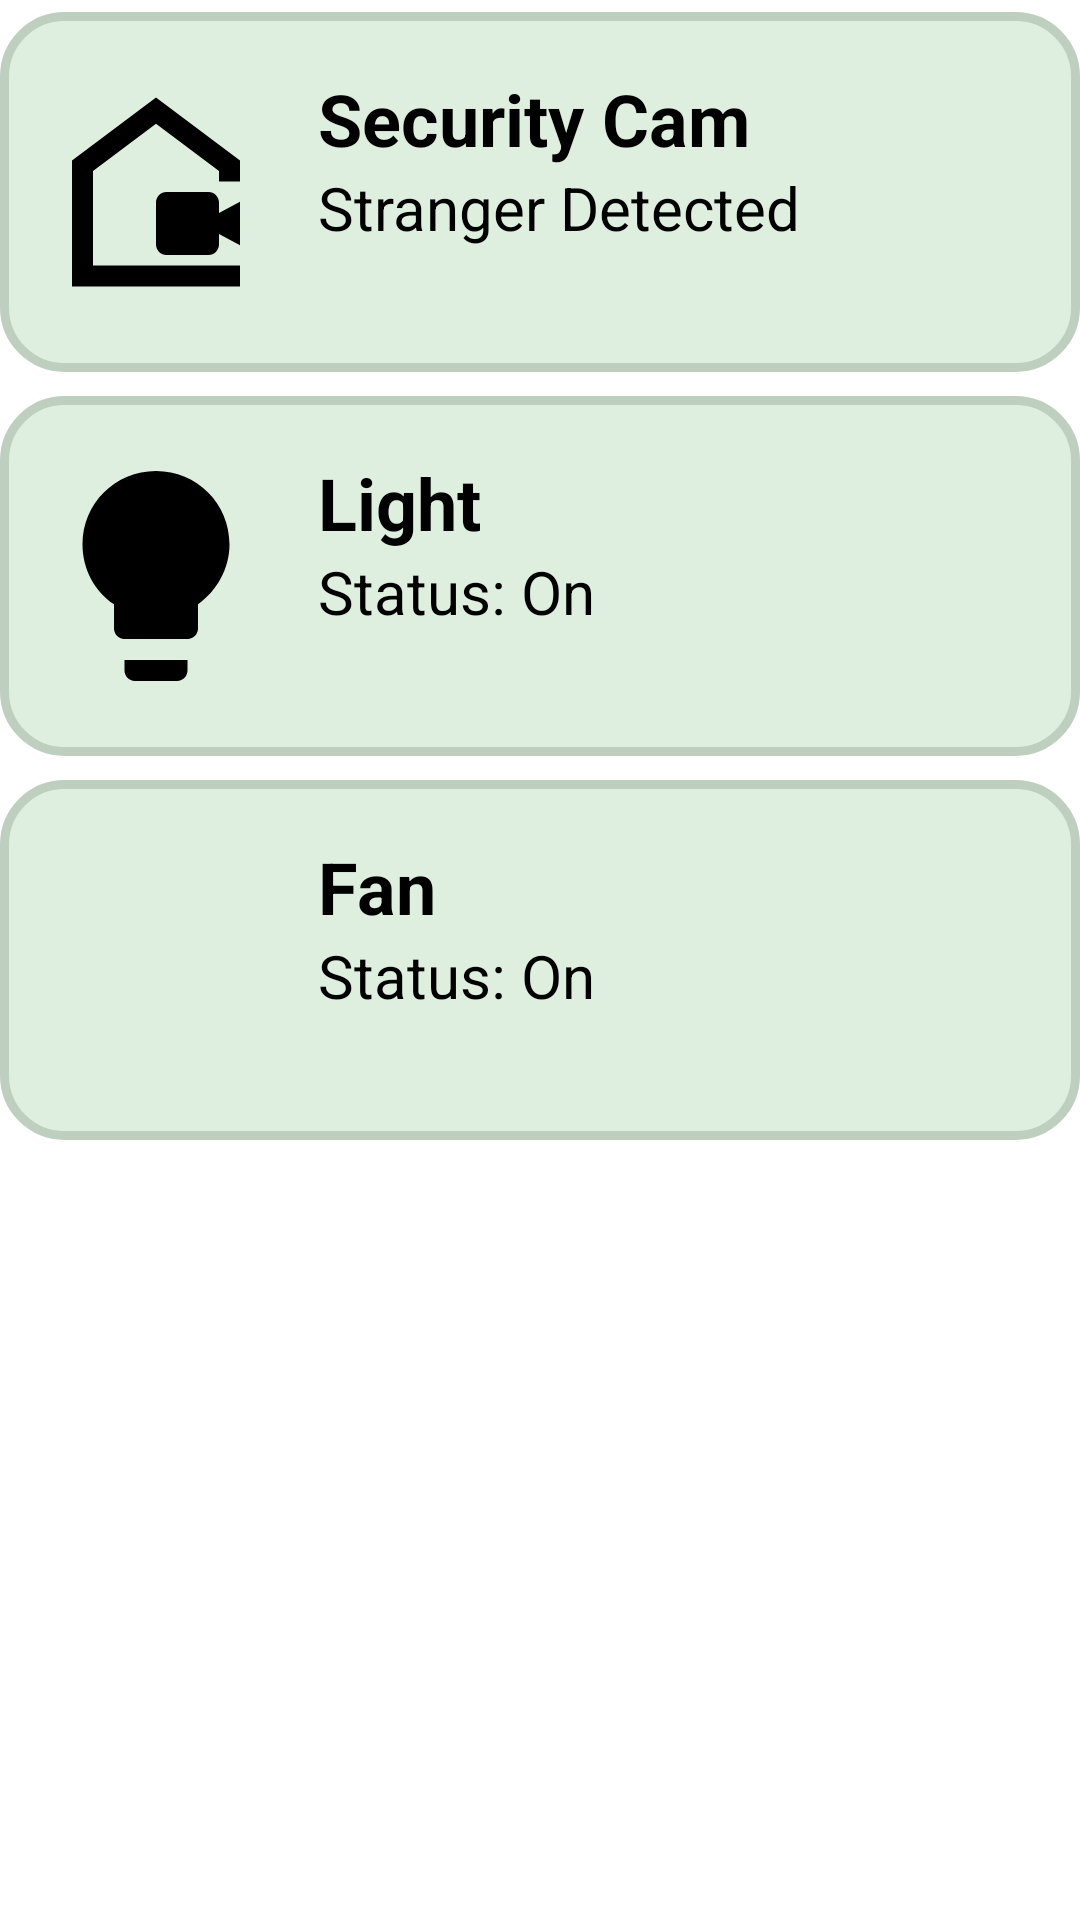

Screen size 1080 × 1920. Icon name, then its box in pixels as {"x1": x1, "y1": y1, "x2": x2, "y2": y2}:
camera outdoor: {"x1": 72, "y1": 97, "x2": 240, "y2": 287}
